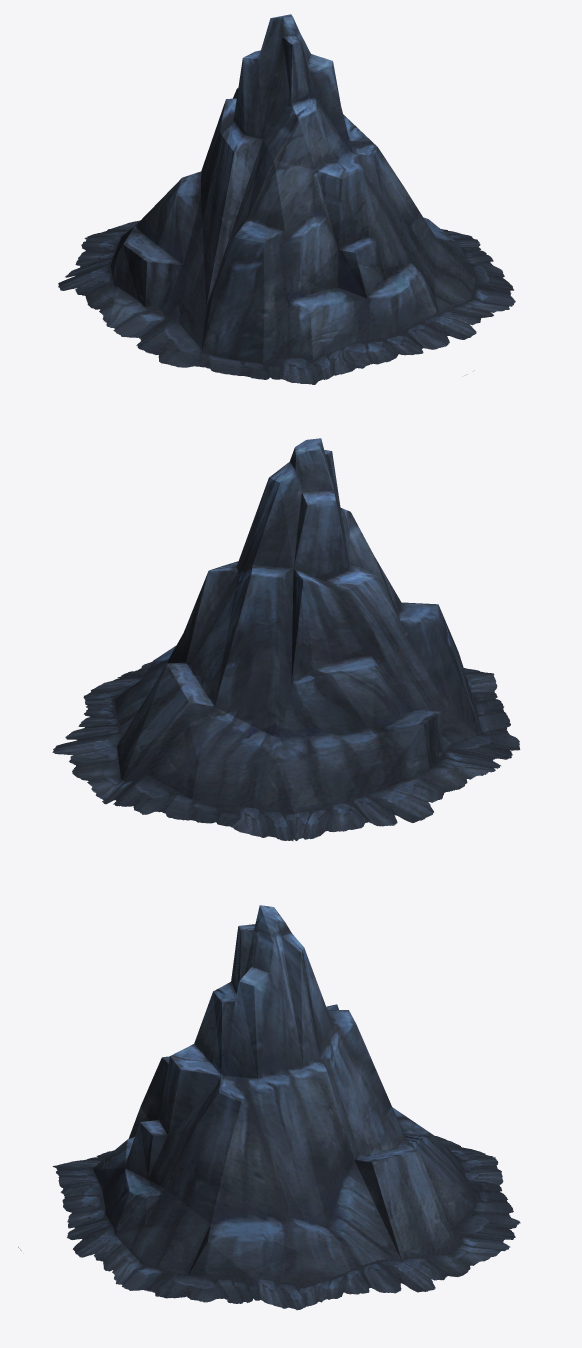
File: mine_free_footer_01.fbx
3 renders of one model, top to bottom at view 1: azimuth 30°, elevation 25°; view 2: azimuth 150°, elevation 25°; view 3: azimuth 270°, elevation 25°, orthographic. The views are drawn at different scales.
Visible parts, largest first — view 1: obj0.035; view 2: obj0.035; view 3: obj0.035.
Boxes of the visible parts, x1,y1,x2,y2 form: obj0.035: (58, 14, 515, 384); obj0.035: (52, 438, 520, 841); obj0.035: (18, 905, 520, 1310).
Size of the model in its own units: 7.84 by 4.88 by 7.94.
